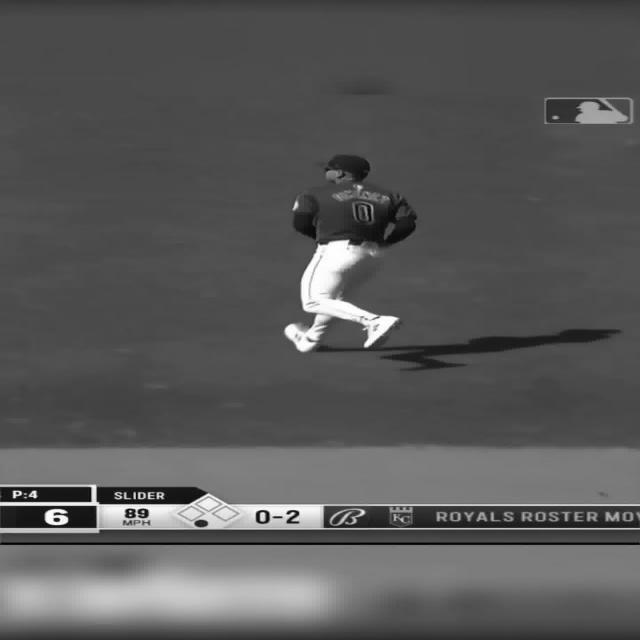shoe: (361, 314, 401, 348), (283, 322, 321, 352)
